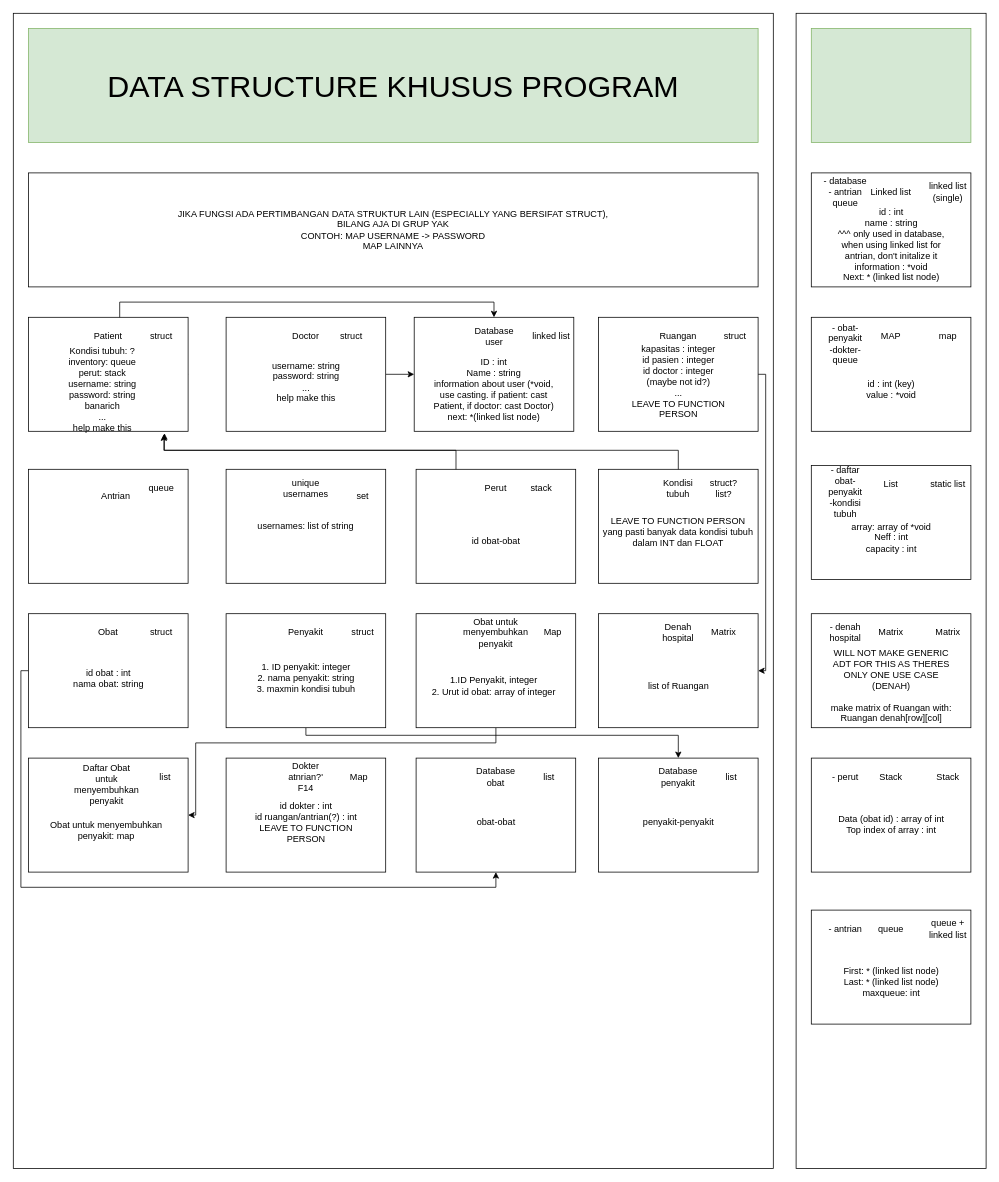
Image size: 999x1182. Some labels were removed from this diagram. The shapes that lost their labels are listed below. From the top down, each one's box as (x1, y1, x2, y2) in pixels, then its label:
(811, 28, 971, 142): ADT
(28, 469, 188, 583): Linked list of ... LEAVE TO FUNCTION PERSON
